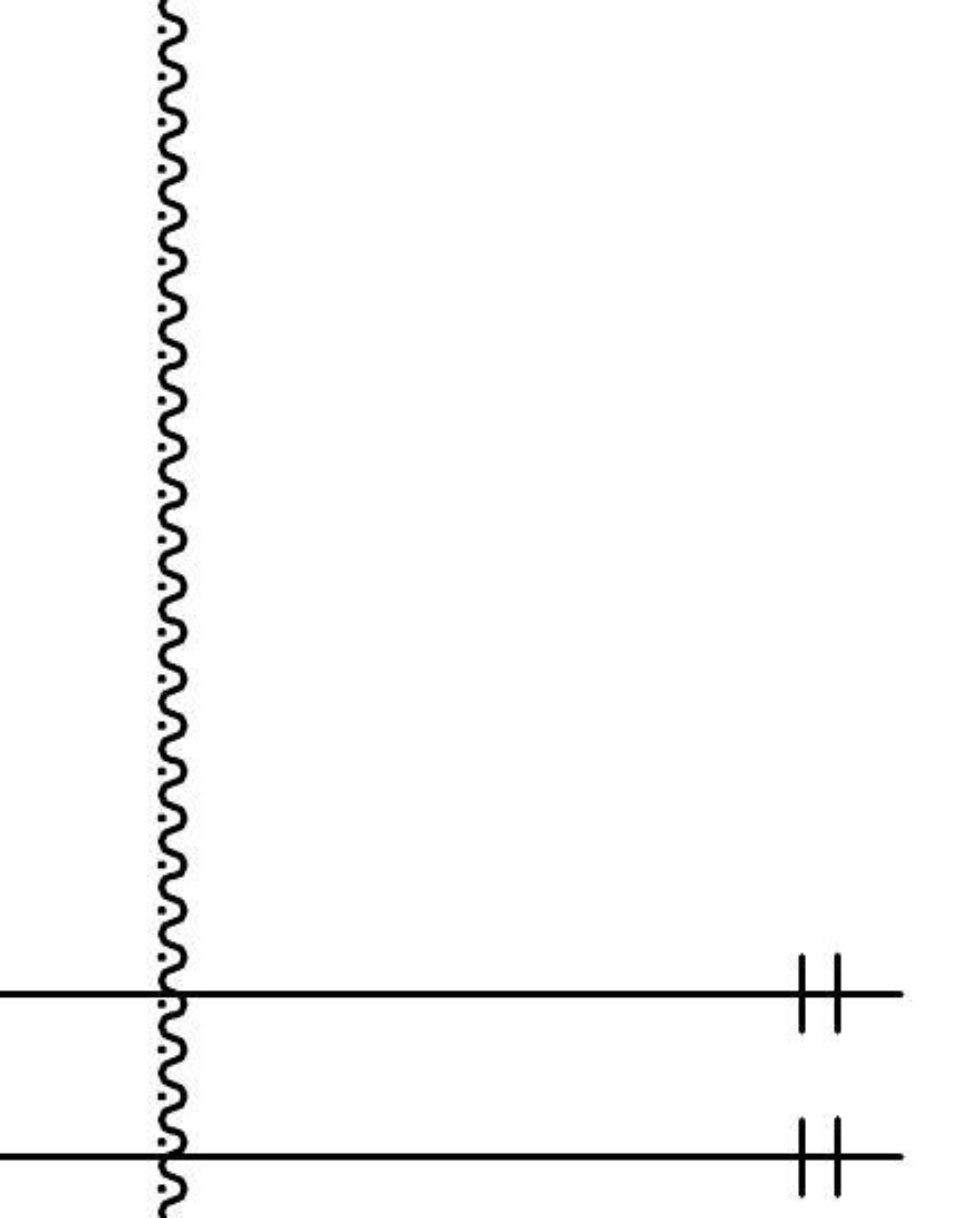115_buffer: (798, 1115, 841, 1199), (799, 952, 842, 1035)
